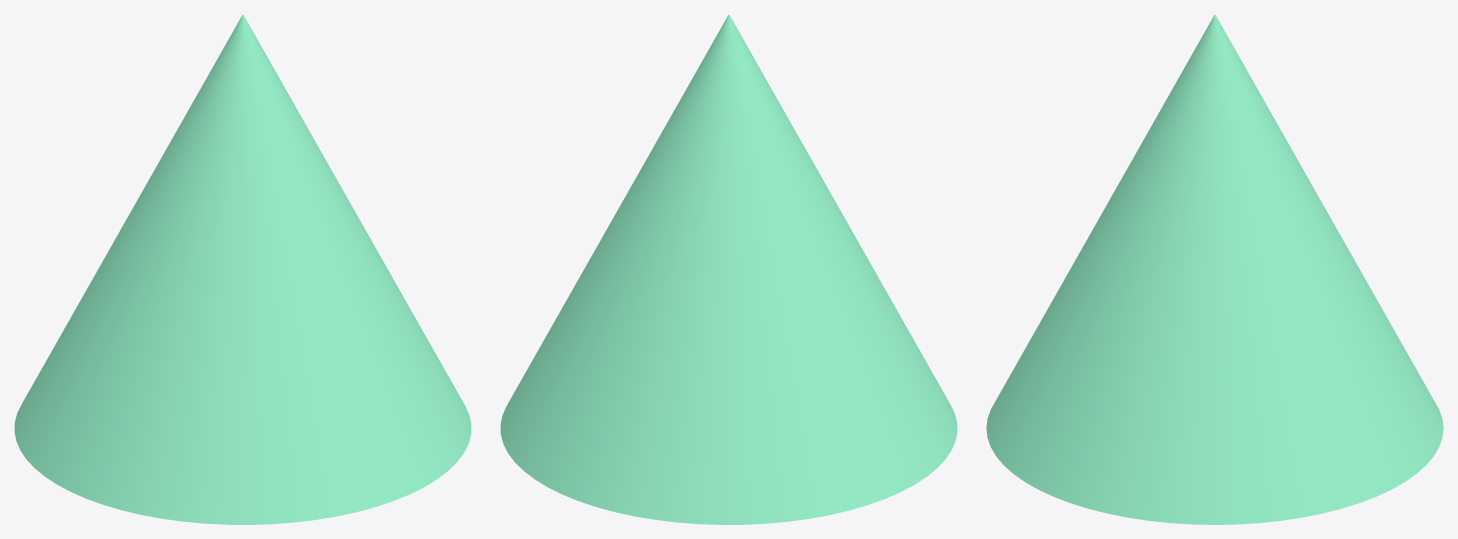
The picture shows the model from 3 angles, left to right: view 1: azimuth 30°, elevation 25°; view 2: azimuth 150°, elevation 25°; view 3: azimuth 270°, elevation 25°; orthographic projection.
Visible parts, largest first — view 1: Cone; view 2: Cone; view 3: Cone.
Part boxes in pixels (bbox=[...]): Cone: bbox=[14, 14, 471, 524]; Cone: bbox=[500, 14, 957, 524]; Cone: bbox=[986, 14, 1443, 524].
Bounding box in the file's own units: 2 × 2 × 2.
